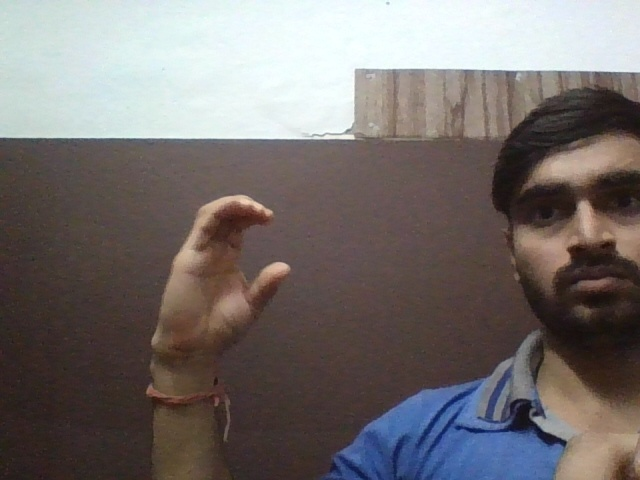C: (159, 182, 301, 357)
